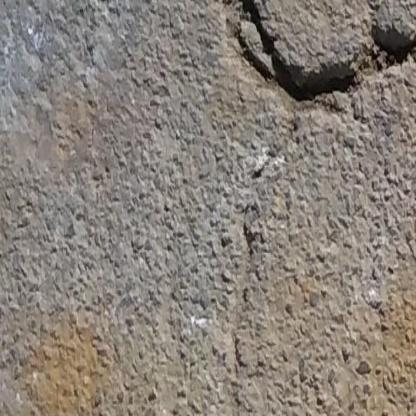Cracks: (228, 0, 416, 108)
